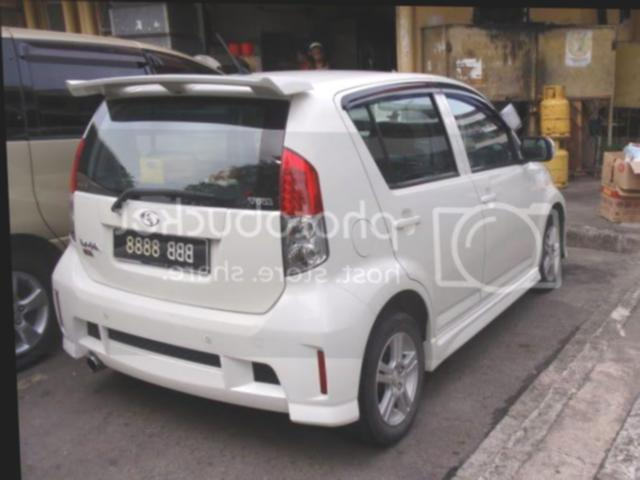License_Plate: (107, 223, 212, 279)
